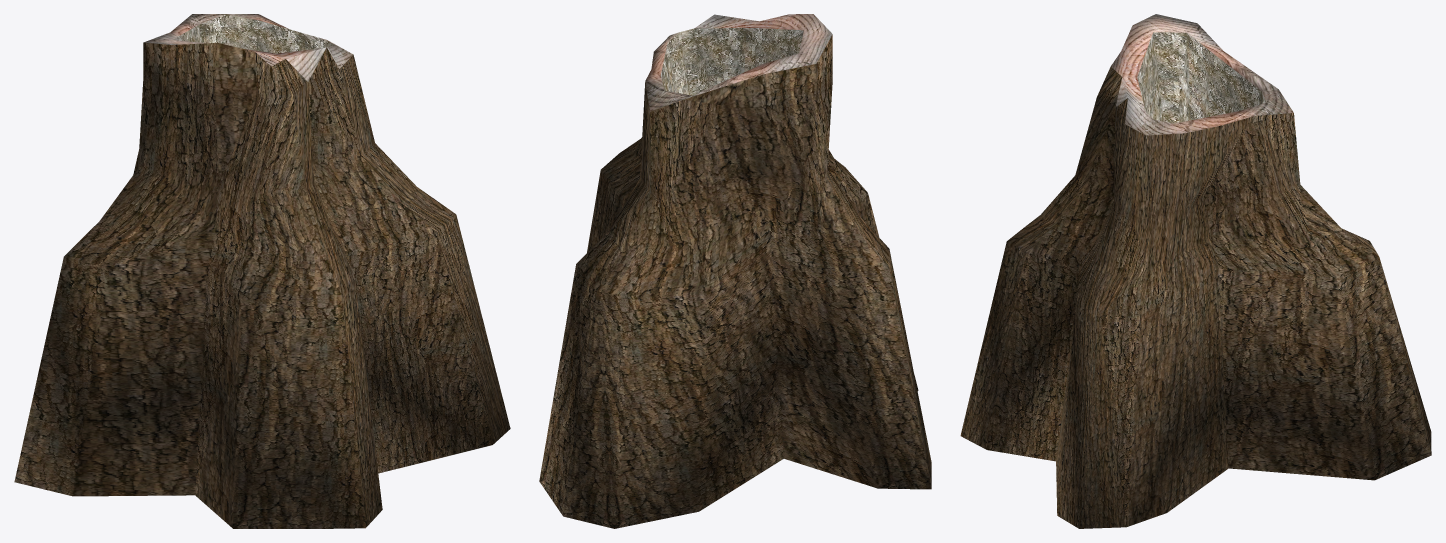
File: decd_oakstump_sm_l0.fbx
The picture shows the model from 3 angles, left to right: view 1: azimuth 30°, elevation 25°; view 2: azimuth 150°, elevation 25°; view 3: azimuth 270°, elevation 25°; orthographic projection. The views are drawn at different scales.
Visible parts, largest first — view 1: mesh_node; view 2: mesh_node; view 3: mesh_node.
Part boxes in pixels (x1,y1,x2,y2): mesh_node: (14,14,510,528); mesh_node: (539,14,931,528); mesh_node: (960,14,1431,528).
Bounding box in the file's own units: 2.57 × 2.46 × 2.71.
